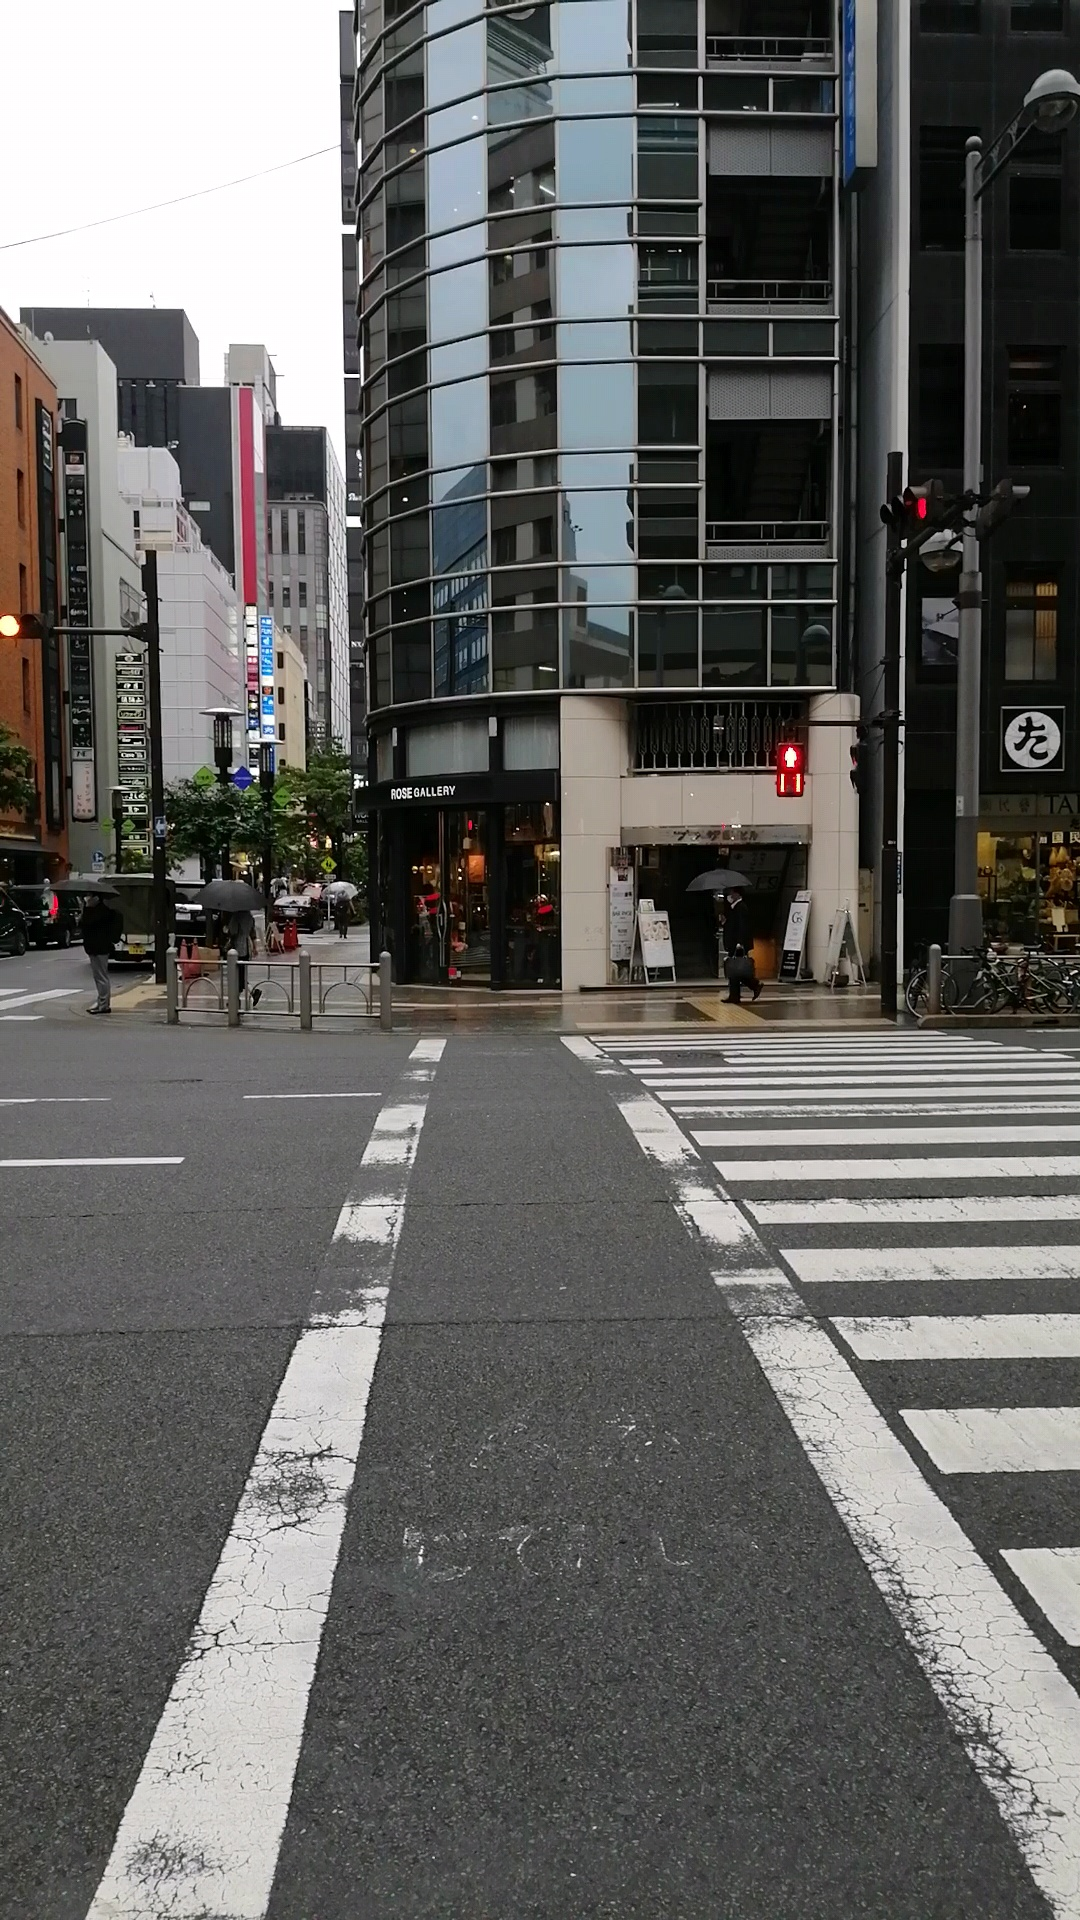red: (774, 738, 804, 799)
